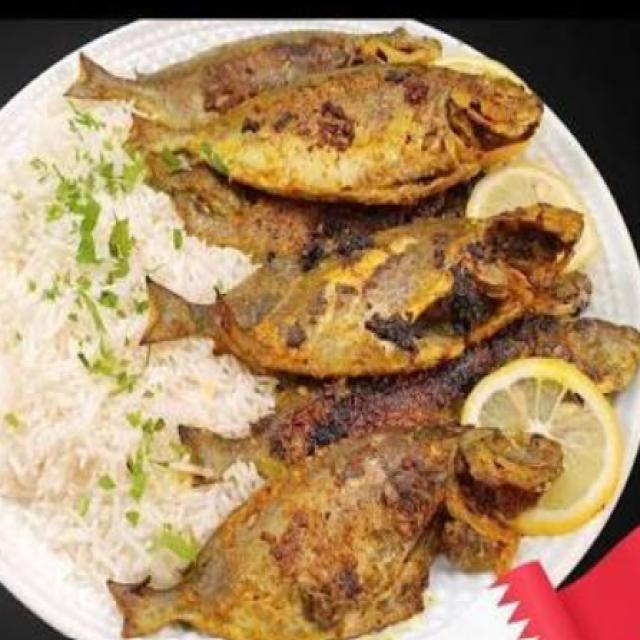Fried Fish: (73, 5, 609, 638)
